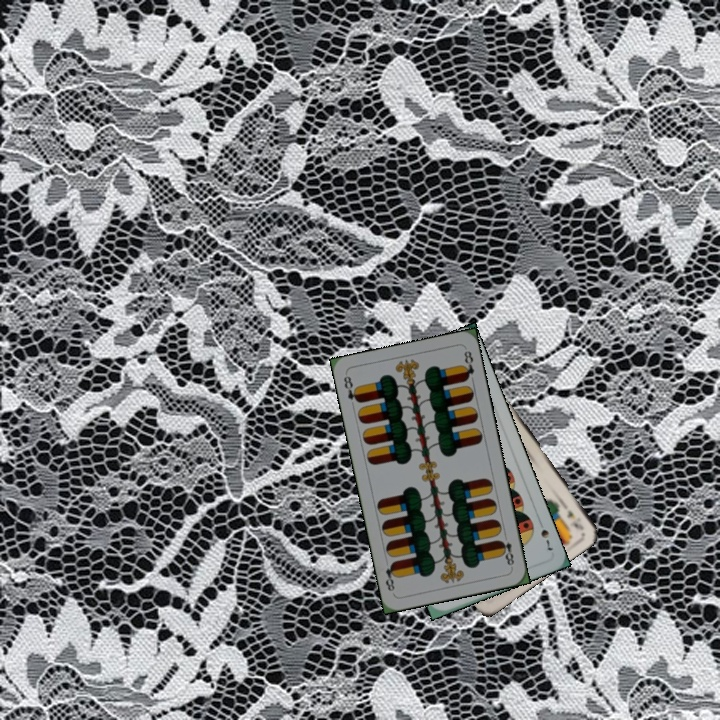E8: (339, 372, 363, 405), (496, 536, 517, 570)
EK: (563, 506, 586, 533)
S7: (537, 525, 556, 553)
